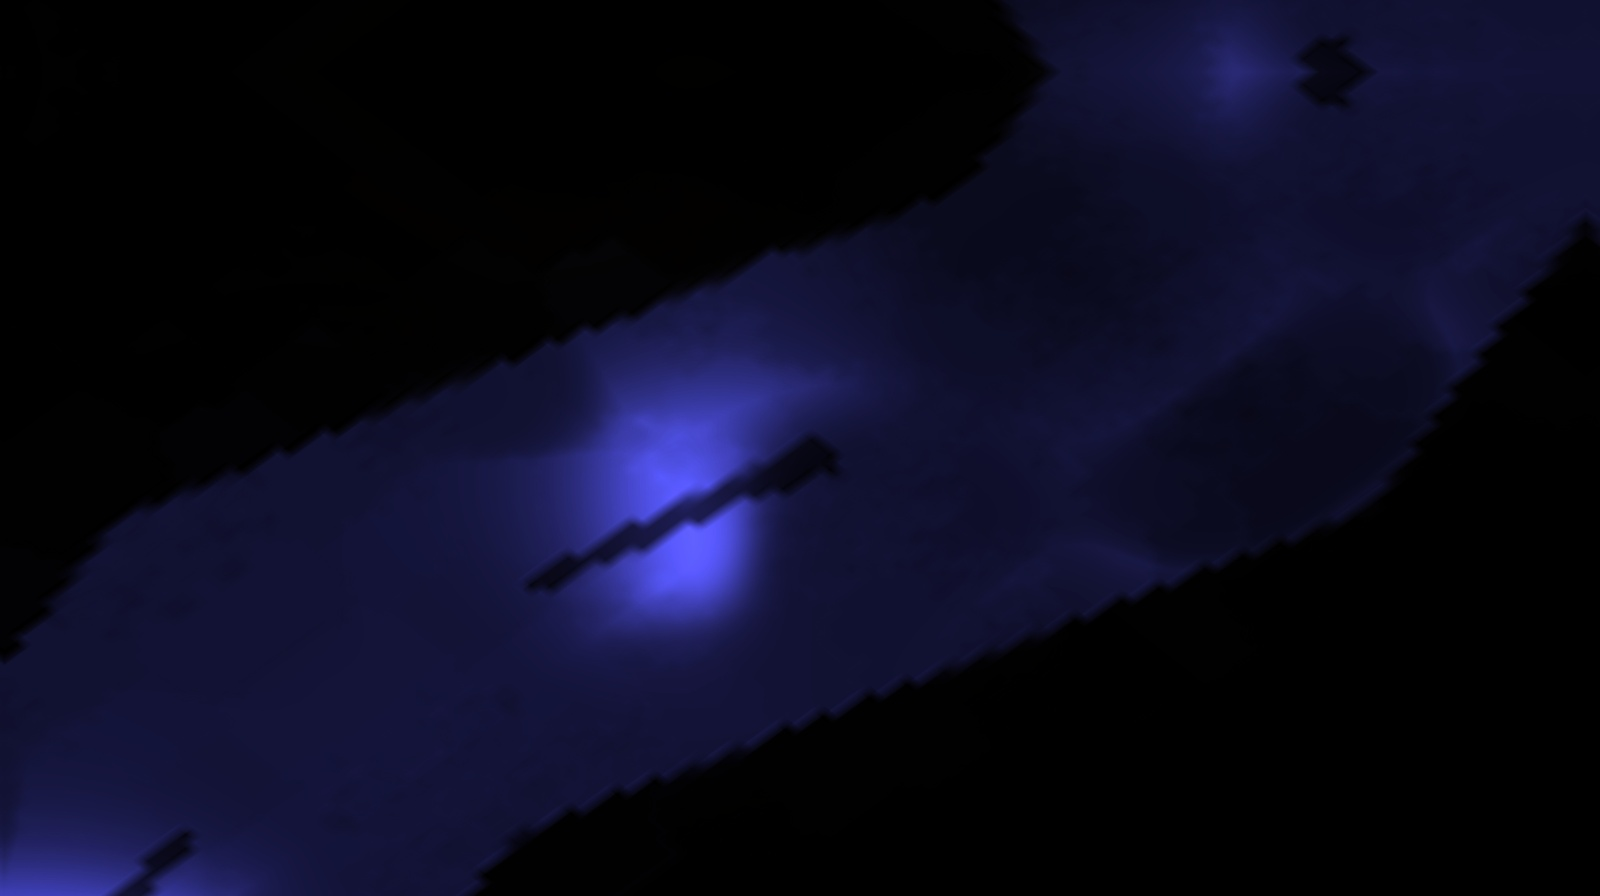S002: (458, 378, 871, 685)
